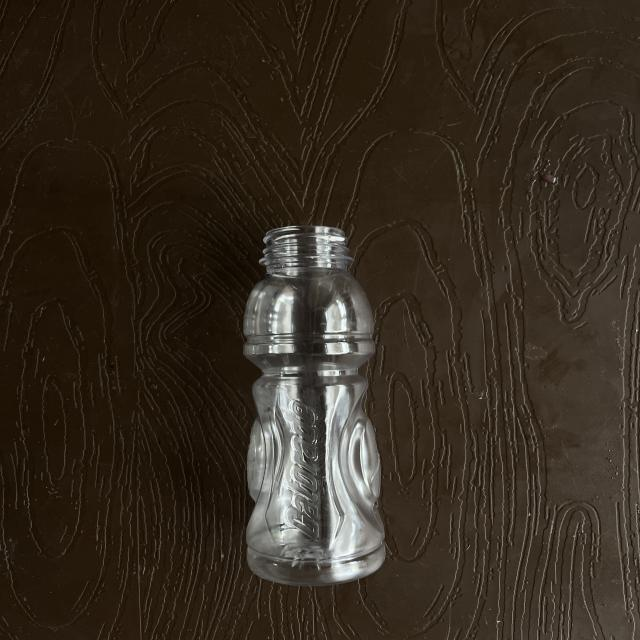PET_ClearBottle: (220, 220, 547, 591)
